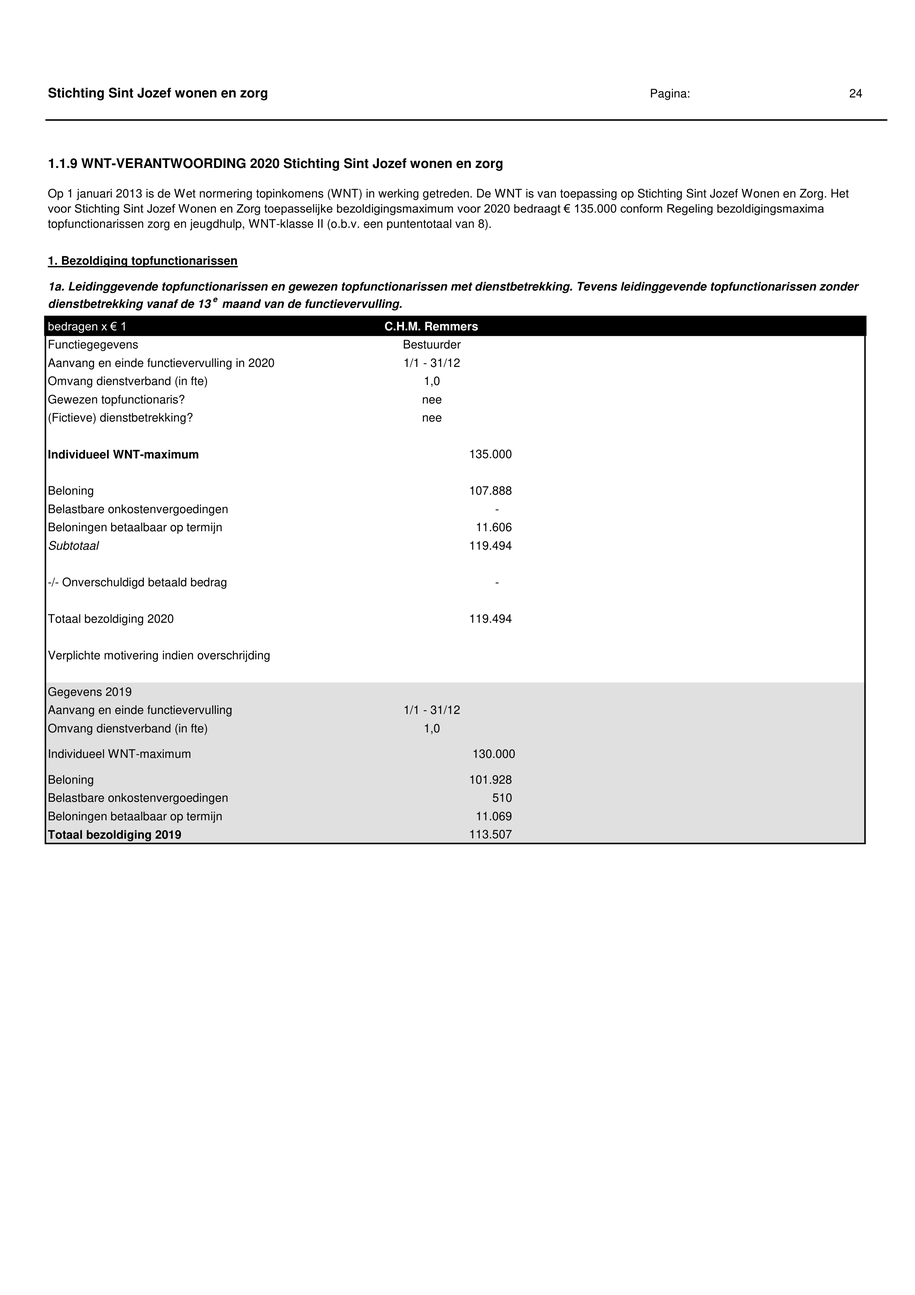coulmn: (42, 316, 276, 855), (366, 314, 536, 846)
